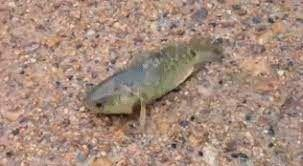Climbing Perch: (84, 37, 216, 127)
